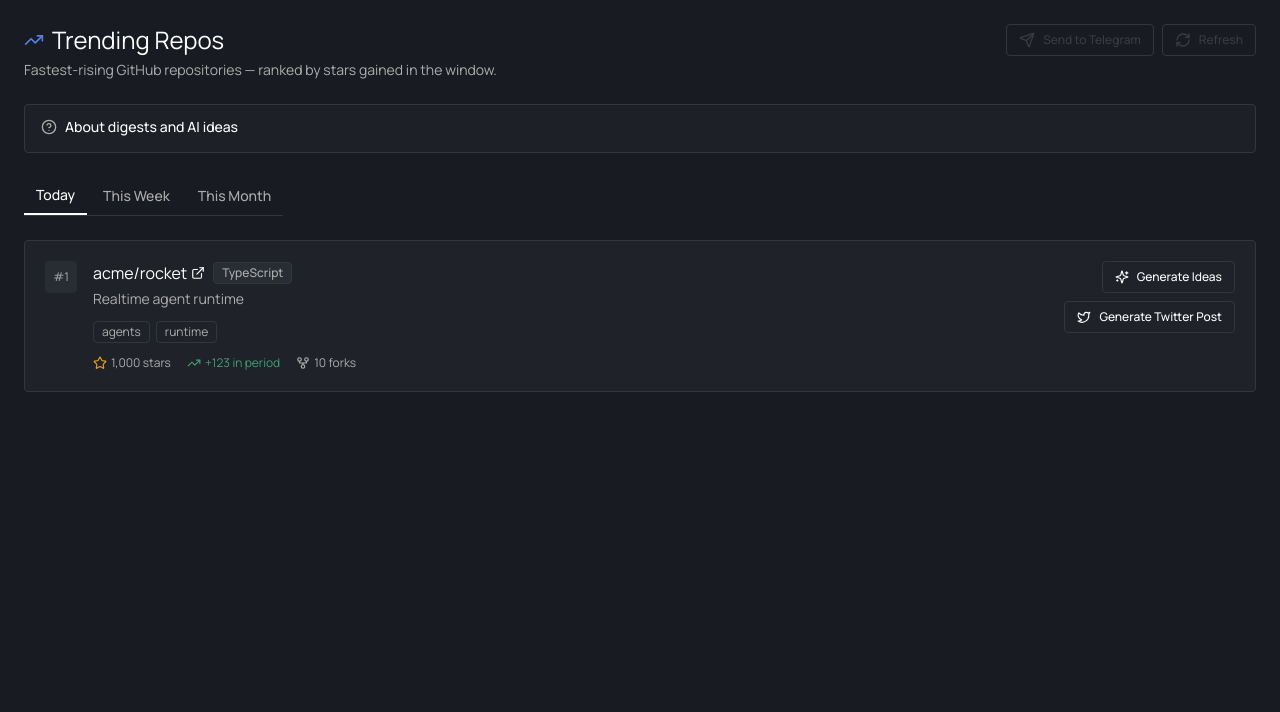
Test case: TrendingReposPage › renders generated ideas immediately after the mutation succeeds
This screenshot has width=1280, height=712.
Expected: the link "acme/rocket" is shown, 93,261 -> 205,285
Click the button "Generate Ideas": point(1168, 277) 1102,261 -> 1235,293
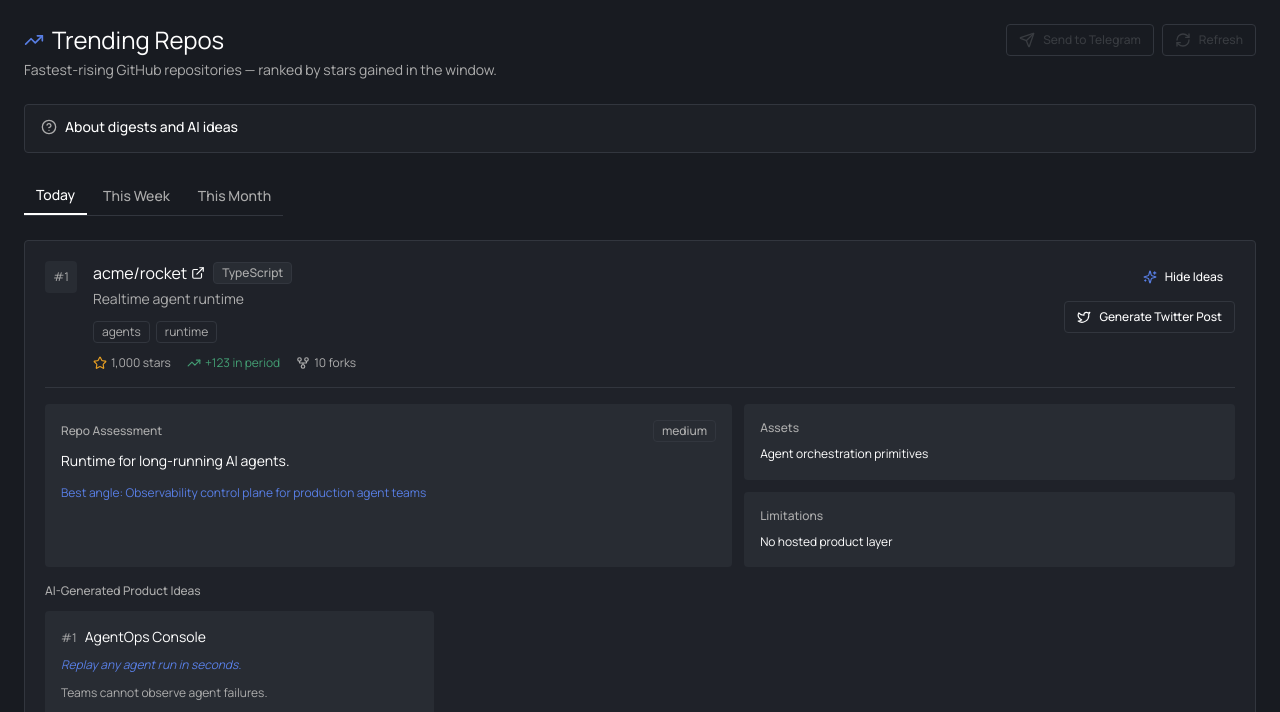
Expected: the text "AI-Generated Product Ideas" is shown, 45,582 -> 201,599
Expected: the heading "AgentOps Console" is shown, 85,627 -> 206,647
Expected: the text "Repo Assessment" is shown, 61,423 -> 162,439
